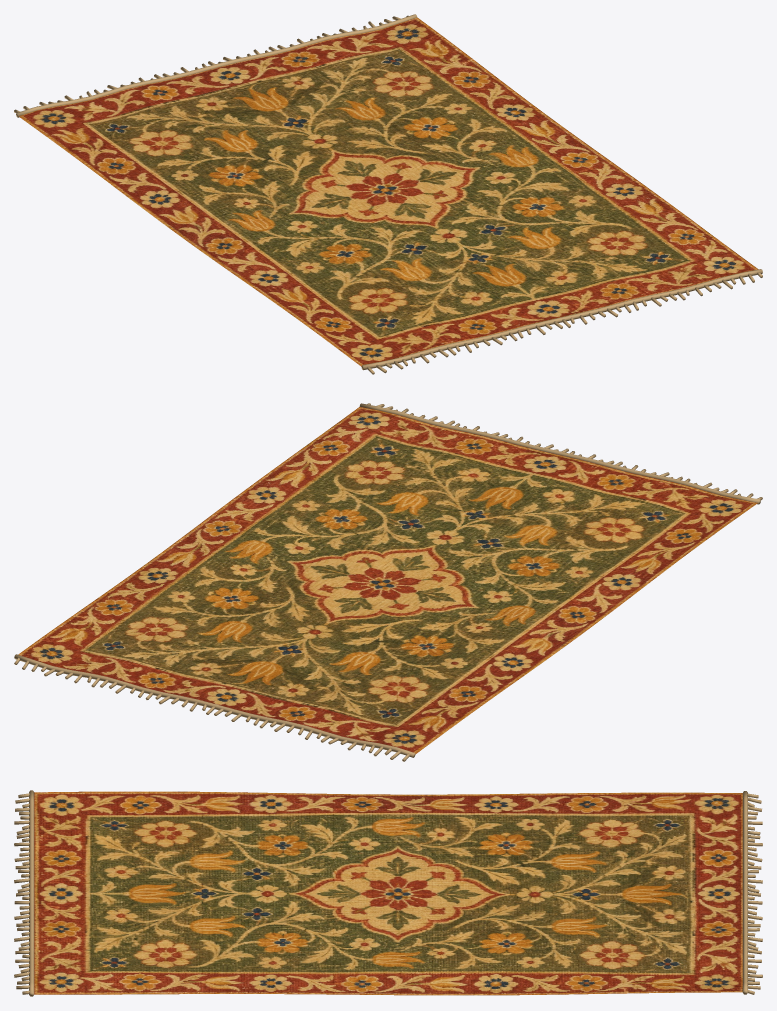
File: skete-rug.glb
The picture shows the model from 3 angles, top to bottom: view 1: azimuth 30°, elevation 25°; view 2: azimuth 150°, elevation 25°; view 3: azimuth 270°, elevation 25°; orthographic projection. The views are drawn at different scales.
Parts seen in each view (by area): view 1: woven carpet, hand knotted tassels; view 2: woven carpet, hand knotted tassels; view 3: woven carpet, hand knotted tassels.
Part boxes in pixels (x1,y1,x2,y2): woven carpet: (19,17,758,366); hand knotted tassels: (14,14,762,374); woven carpet: (18,407,757,754); hand knotted tassels: (14,403,762,761); woven carpet: (34,791,742,995); hand knotted tassels: (14,790,762,996).
Bounding box in the file's own units: 3.22 × 0.0537 × 5.07.
2 materials, 1 textured.
